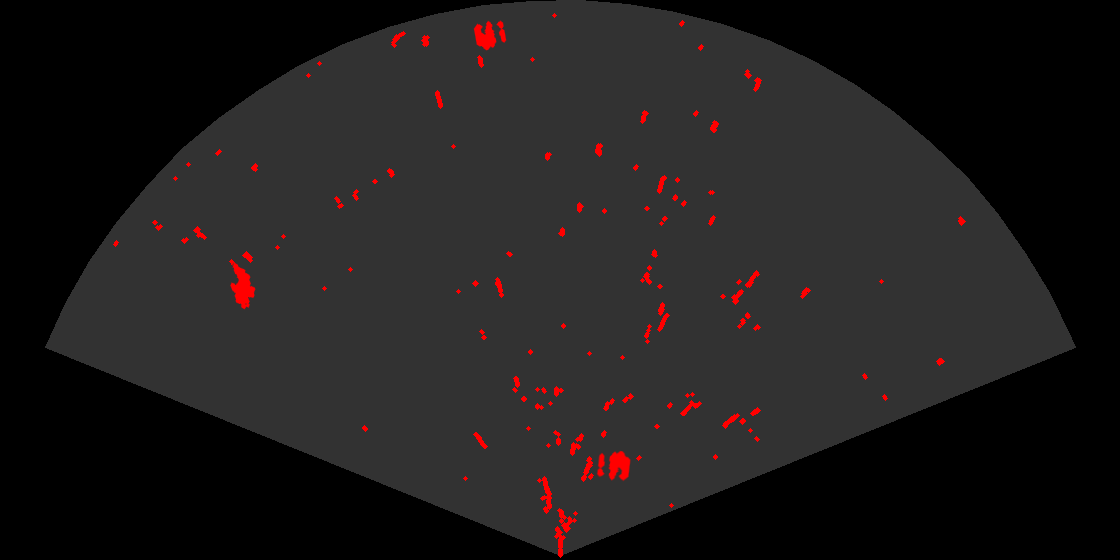AUV: (229, 262, 257, 311)
ball: (595, 449, 632, 483), (472, 19, 508, 52)
